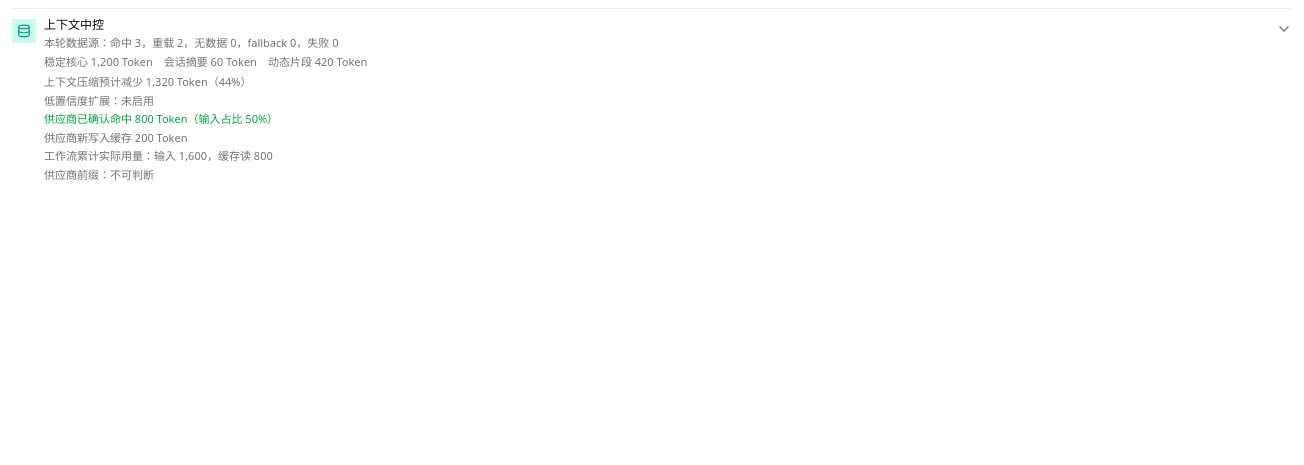
Scenario: ContextHubDetails › reloads an expanded snapshot when the same message receives a newer snapshot
Later steps or results of the test are not shown.
Click the button with aria-label "展开上下文中控": (652, 100) [12,17,1292,183]
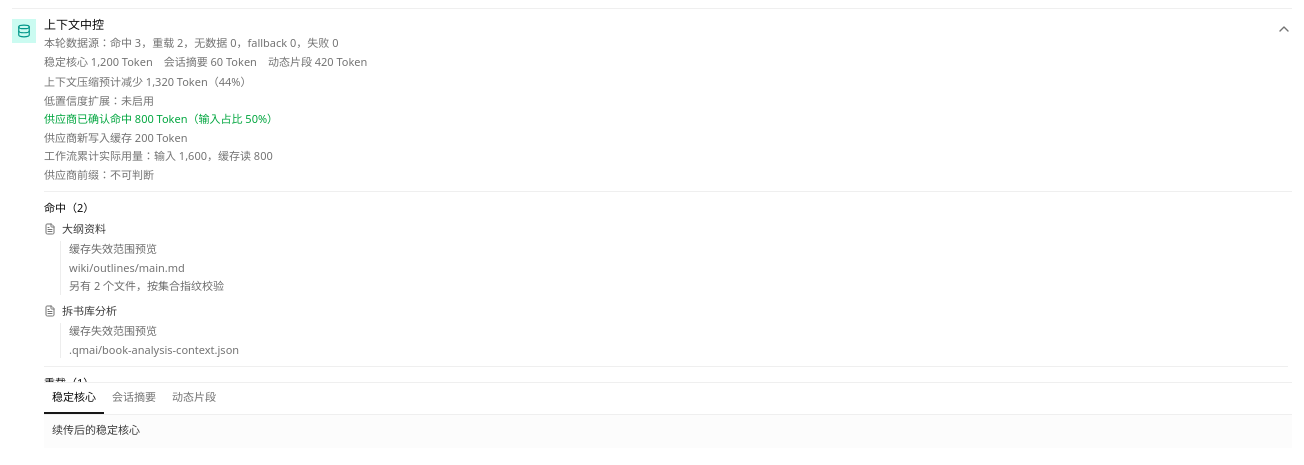
Now the text "续传后的稳定核心" is shown, box [44,414,1292,448]
